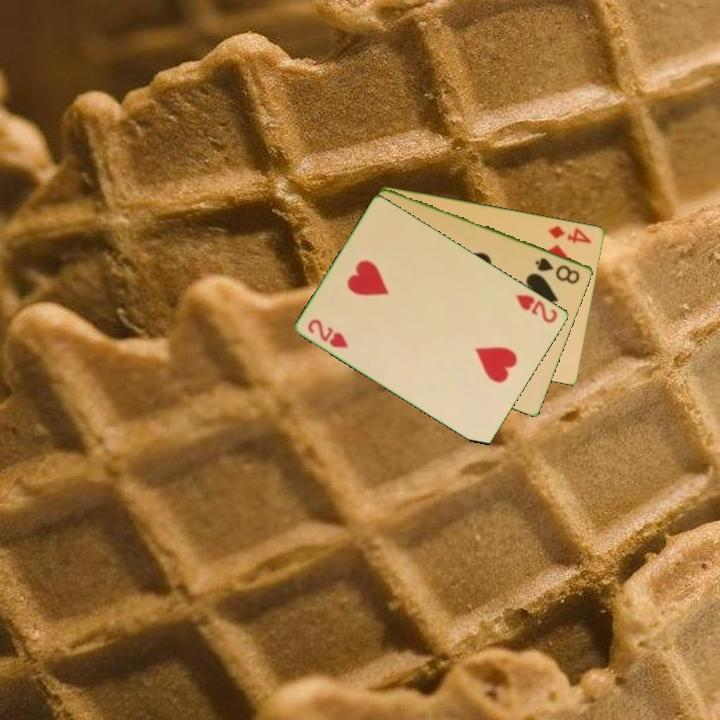2h: (512, 291, 561, 326), (304, 315, 351, 351)
4d: (545, 222, 595, 246)
8s: (532, 254, 583, 287)
